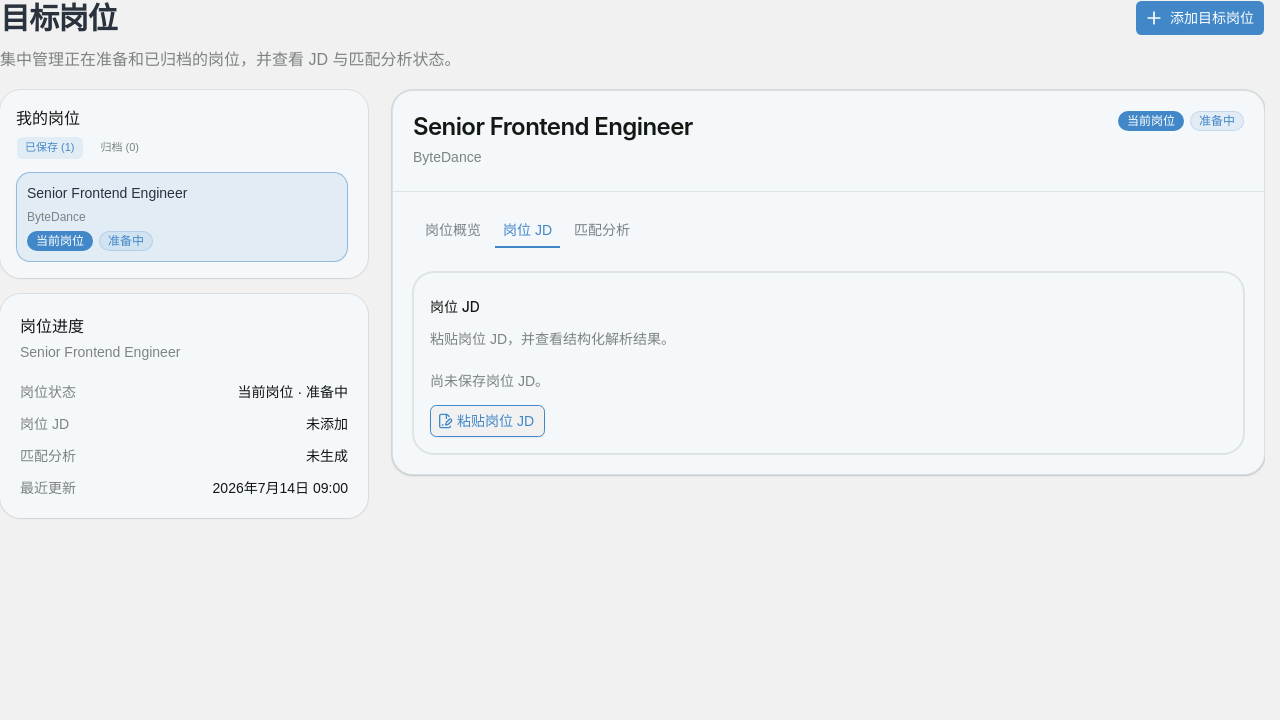
RolesView › keeps the pasted JD draft when saving fails
Click the button "粘贴岗位 JD" at (488, 420), box [430,404,545,436]
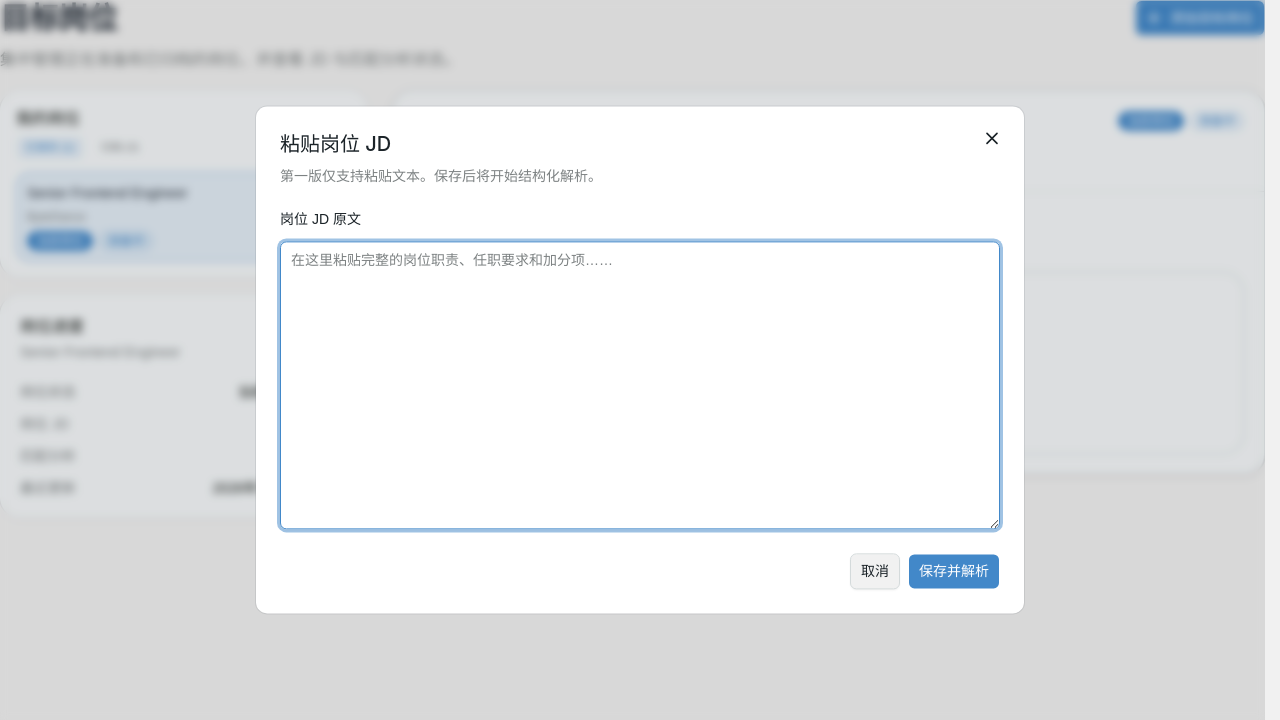
Type "Lead React architecture and TypeScript delivery." into the text box labelled "岗位 JD 原文" at (640, 386), box [280,242,1000,530]
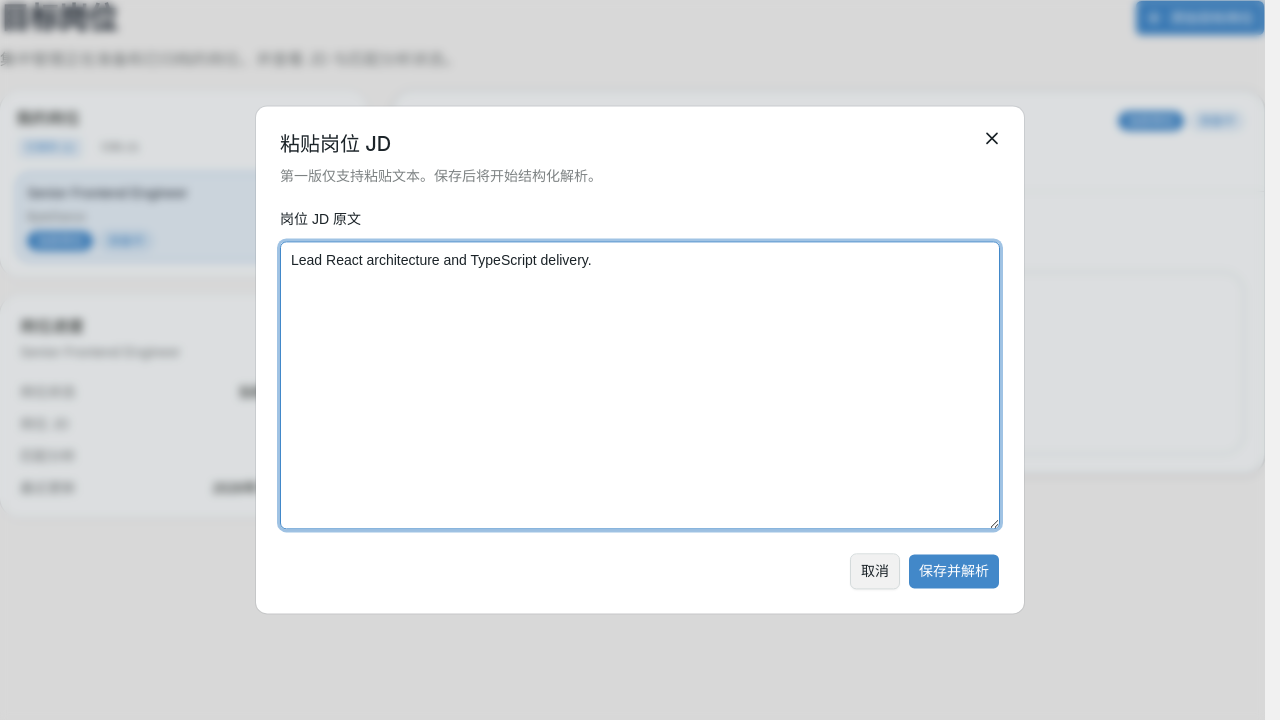
Click the button "保存并解析" at (954, 572), box [908,554,1000,590]
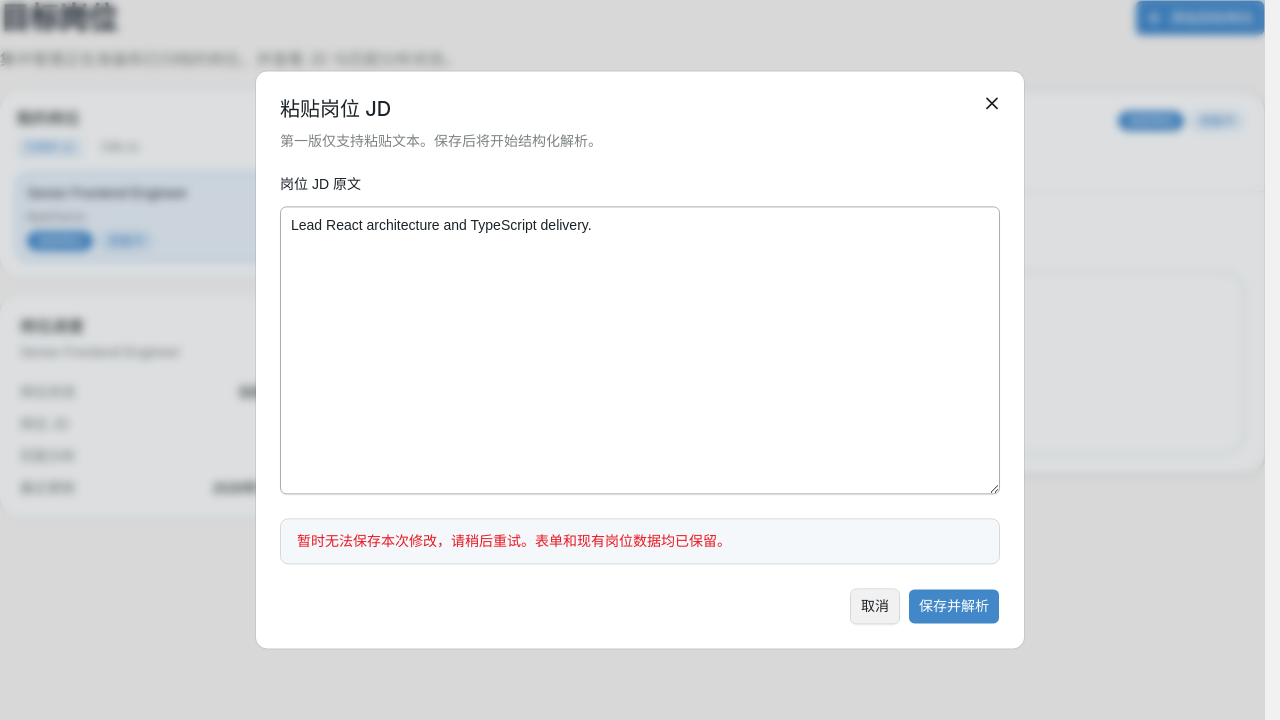
Now the text "暂时无法保存本次修改，请稍后重试。表单和现有岗位数据均已保留。" is shown, box [297,534,731,550]
